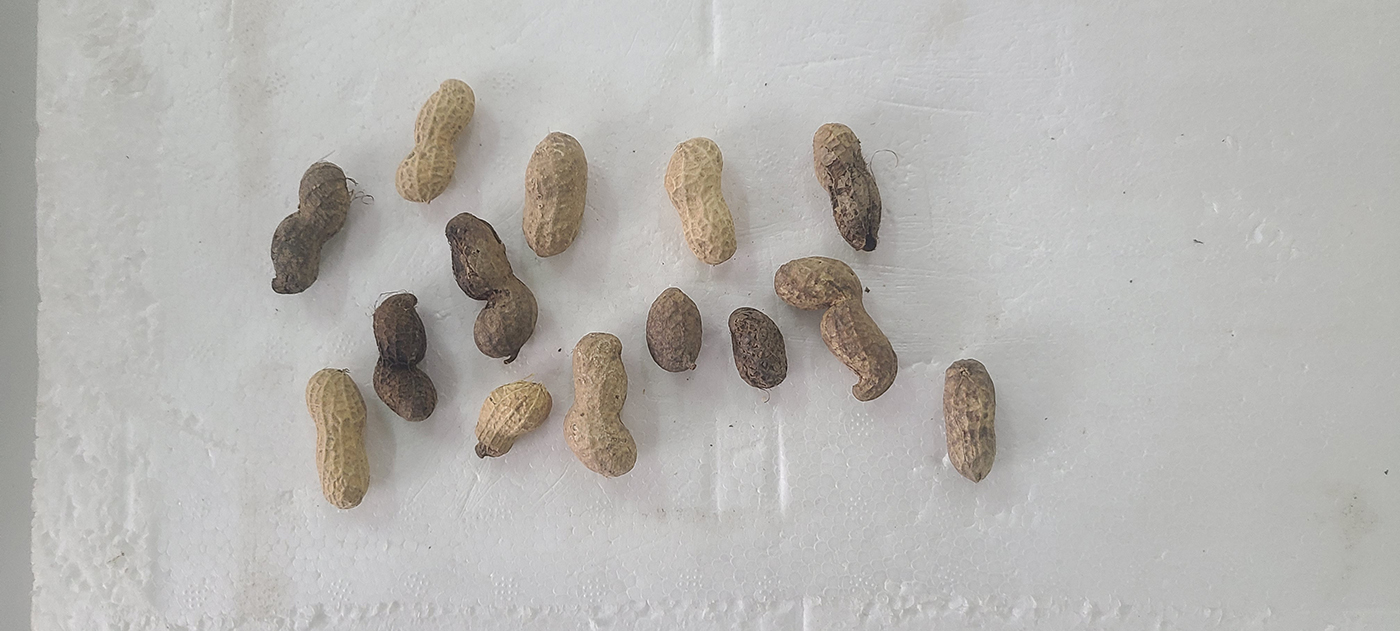h: (563, 330, 638, 476), (396, 78, 476, 203), (305, 367, 372, 509), (664, 137, 737, 266), (521, 132, 587, 256), (476, 380, 552, 457)
l: (774, 256, 898, 402), (446, 213, 539, 360), (270, 160, 351, 294), (811, 121, 882, 252), (373, 293, 438, 421), (943, 358, 998, 480), (727, 306, 788, 388), (647, 286, 701, 372)
